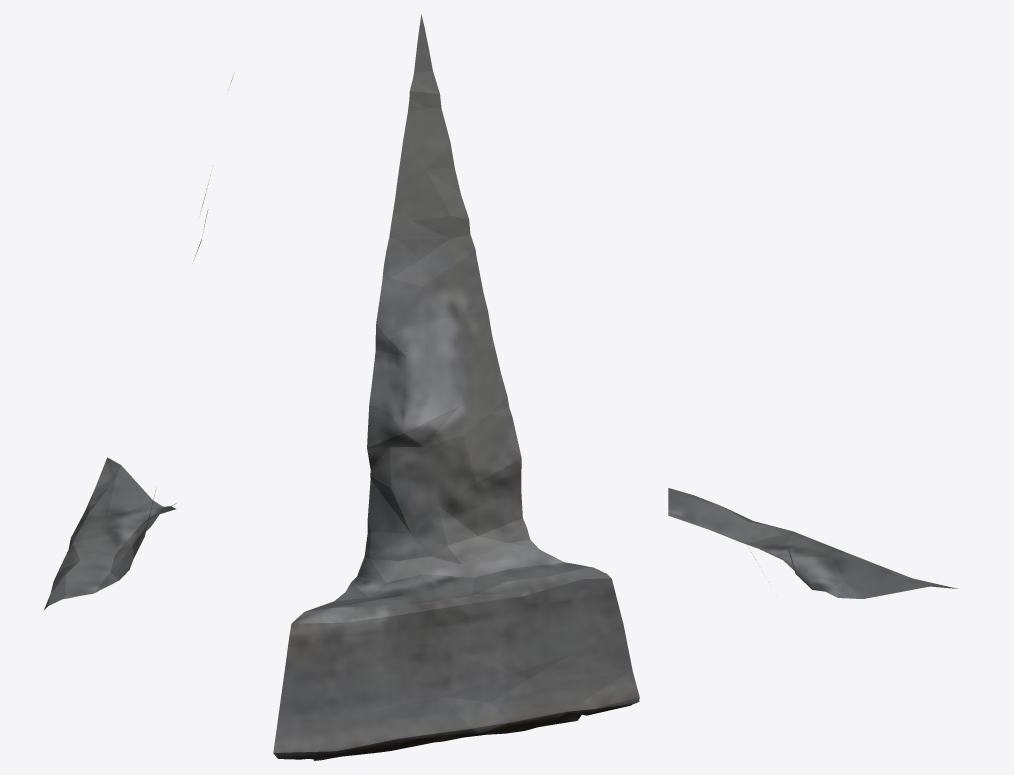
3 renders of one model, left to right at view 1: azimuth 30°, elevation 25°; view 2: azimuth 150°, elevation 25°; view 3: azimuth 270°, elevation 25°, orthographic. The views are drawn at different scales.
Size of the model in its own units: 0.2053 by 0.6005 by 0.2412.
Materials: 1 (1 with a texture image).
